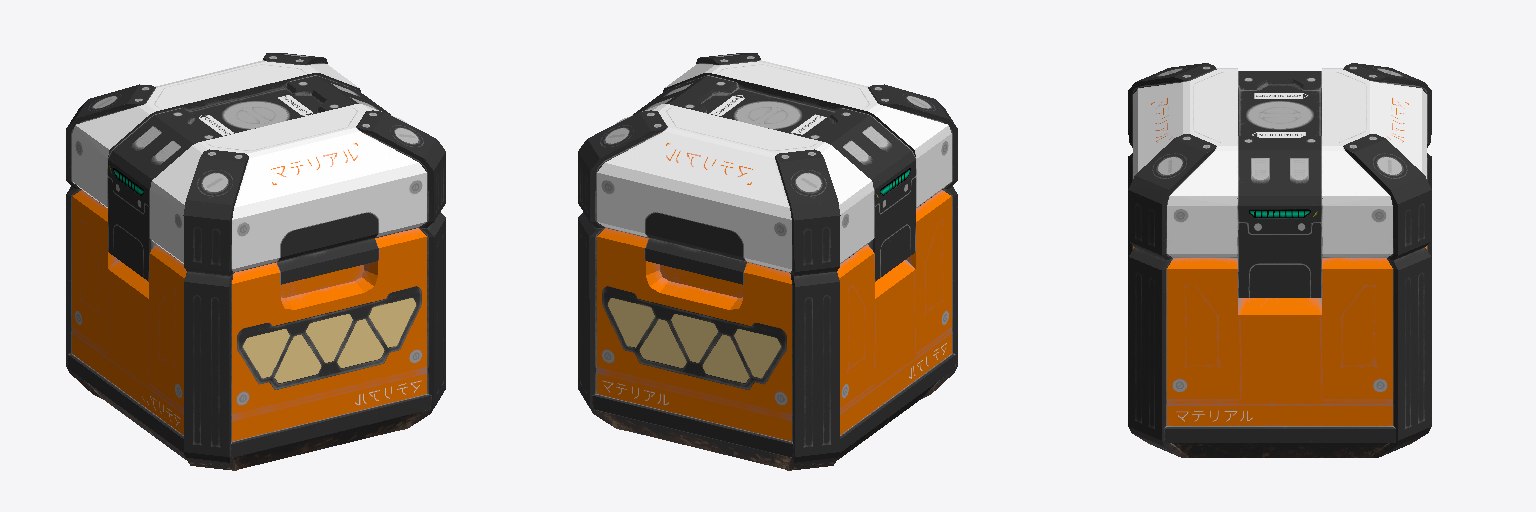
3 renders of one model, left to right at view 1: azimuth 30°, elevation 25°; view 2: azimuth 150°, elevation 25°; view 3: azimuth 270°, elevation 25°, orthographic.
Parts seen in each view (by area): view 1: scificrate_low_lambert2_0; view 2: scificrate_low_lambert2_0; view 3: scificrate_low_lambert2_0.
Part boxes in pixels (x1,y1,x2,y2): scificrate_low_lambert2_0: (66,53,445,470); scificrate_low_lambert2_0: (578,53,957,470); scificrate_low_lambert2_0: (1128,63,1431,457).
Size of the model in its own units: 1.2 by 1.3 by 1.2.
1 materials, 1 textured.